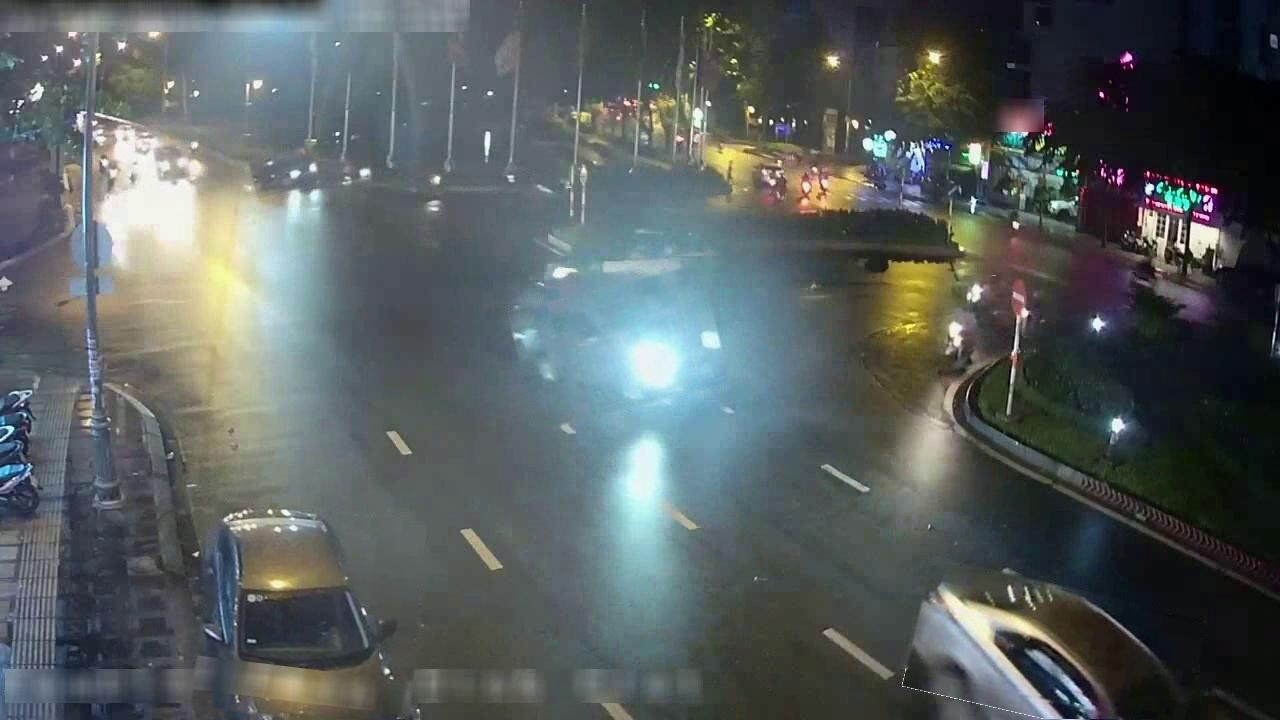Car: (201, 509, 403, 719), (903, 571, 1186, 719), (509, 266, 726, 410), (252, 153, 318, 190), (155, 146, 189, 181), (1048, 199, 1077, 219)
Motorcycle: (0, 462, 39, 516), (0, 388, 33, 430), (0, 426, 28, 457), (0, 408, 32, 434)
Motorcyclist: (939, 309, 976, 370), (964, 275, 998, 306), (409, 172, 443, 198), (339, 161, 371, 186), (100, 161, 122, 194), (533, 178, 567, 197), (502, 172, 521, 199), (127, 154, 140, 185)
Sign: (1011, 278, 1027, 316)
